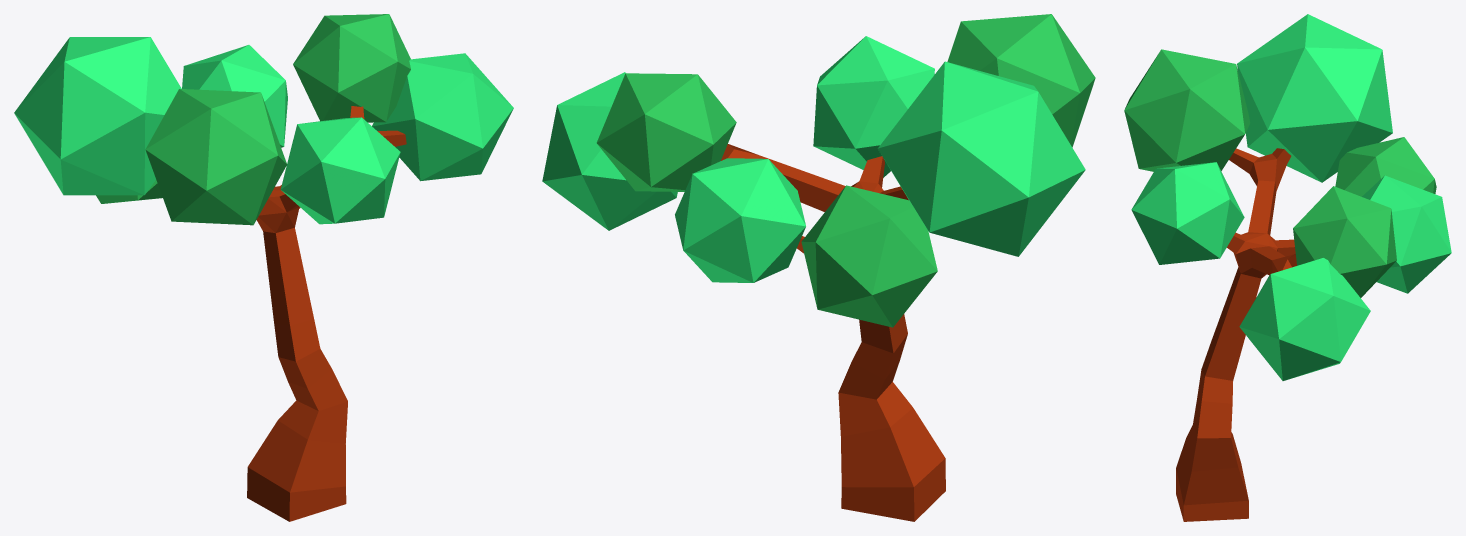
Rendered from Tree.fbx.
3 renders of one model, left to right at view 1: azimuth 30°, elevation 25°; view 2: azimuth 150°, elevation 25°; view 3: azimuth 270°, elevation 25°, orthographic. The views are drawn at different scales.
Visible parts, largest first — view 1: Leaf.006, Trunk, Leaf.005, Leaf.002, Leaf.004, Leaf.003, Leaf.001; view 2: Leaf.006, Trunk, Leaf, Leaf.001, Leaf.003, Leaf.004, Leaf.005, Leaf.002; view 3: Leaf.006, Trunk, Leaf.005, Leaf.002, Leaf.004, Leaf.003, Leaf.001, Leaf.
Part boxes in pixels (x1,y1,x2,y2): Leaf.006: (14, 37, 181, 195); Trunk: (247, 106, 406, 521); Leaf.005: (145, 89, 286, 225); Leaf.002: (372, 53, 513, 181); Leaf.004: (280, 117, 400, 224); Leaf.003: (293, 14, 410, 122); Leaf.001: (182, 45, 287, 147); Leaf.006: (877, 61, 1085, 256); Trunk: (721, 144, 945, 521); Leaf: (801, 185, 937, 327); Leaf.001: (675, 158, 805, 282); Leaf.003: (596, 73, 736, 191); Leaf.004: (813, 36, 934, 177); Leaf.005: (947, 14, 1095, 147); Leaf.002: (542, 72, 677, 230); Leaf.006: (1237, 14, 1392, 182); Trunk: (1176, 148, 1296, 521); Leaf.005: (1124, 49, 1250, 171); Leaf.002: (1239, 258, 1370, 380); Leaf.004: (1131, 162, 1244, 264); Leaf.003: (1293, 186, 1396, 297); Leaf.001: (1362, 175, 1451, 293); Leaf: (1335, 137, 1436, 196).
Size of the model in its own units: 893 by 841 by 600.
